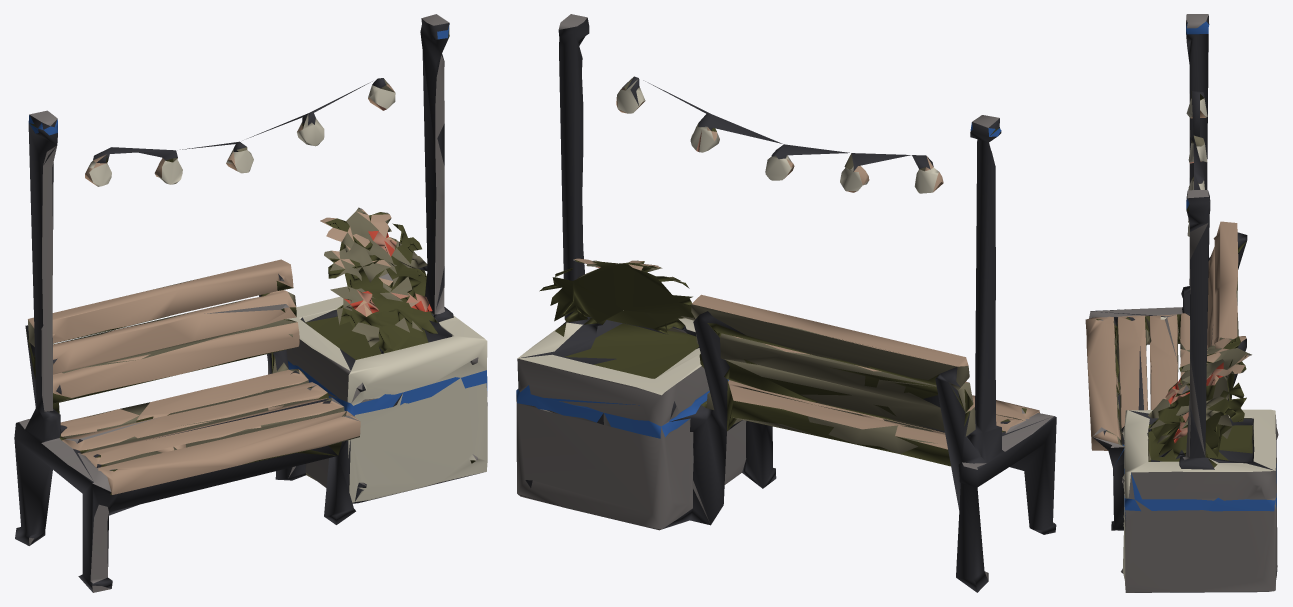
File: bench-cN0SVXe_.glb
3 renders of one model, left to right at view 1: azimuth 30°, elevation 25°; view 2: azimuth 150°, elevation 25°; view 3: azimuth 270°, elevation 25°, orthographic. The views are drawn at different scales.
Parts seen in each view (by area): view 1: tripo_node_d8715733-8fe9-448c-8002-525d847d7b04; view 2: tripo_node_d8715733-8fe9-448c-8002-525d847d7b04; view 3: tripo_node_d8715733-8fe9-448c-8002-525d847d7b04.
Boxes of the visible parts, x1,y1,x2,y2 form: tripo_node_d8715733-8fe9-448c-8002-525d847d7b04: [14, 14, 487, 592]; tripo_node_d8715733-8fe9-448c-8002-525d847d7b04: [516, 14, 1056, 592]; tripo_node_d8715733-8fe9-448c-8002-525d847d7b04: [1085, 14, 1278, 592].
Size of the model in its own units: 0.9731 by 0.9696 by 0.421.
